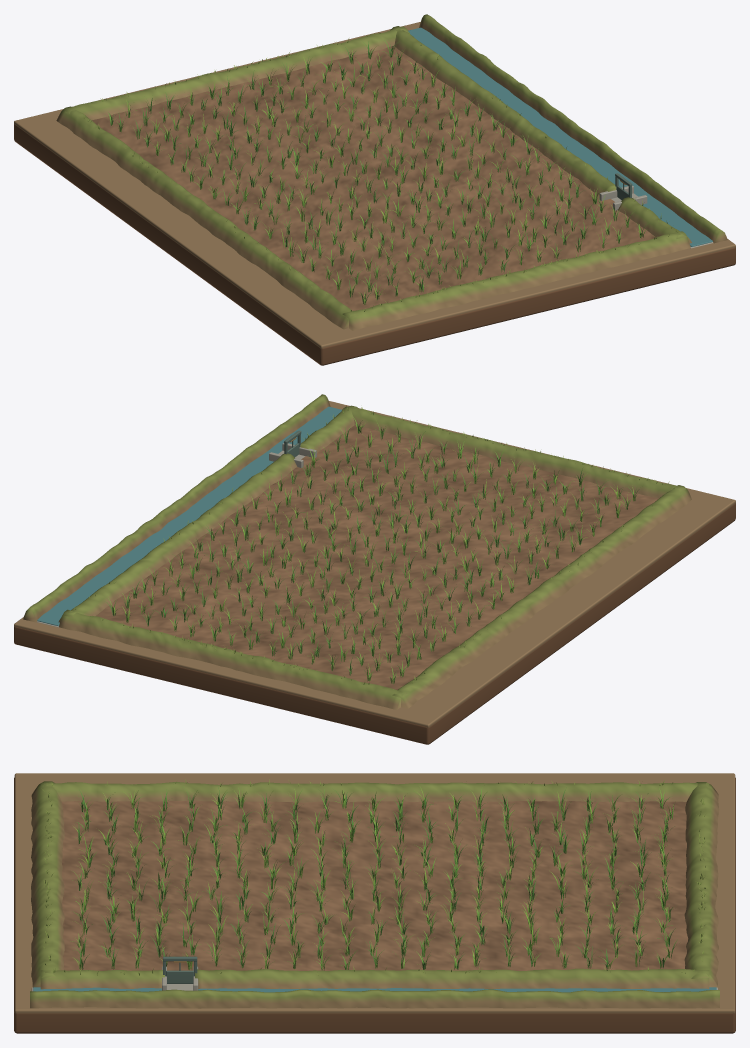
The model's file is lahan-terbuka-padi.glb.
3 renders of one model, top to bottom at view 1: azimuth 30°, elevation 25°; view 2: azimuth 150°, elevation 25°; view 3: azimuth 270°, elevation 25°, orthographic. The views are drawn at different scales.
Visible parts, largest first — view 1: Permukaan_Tanah, Lapisan_Tanah_Atas, Lapisan_Tanah_Dasar, Pematang_Barat, Pematang_Selatan, Pematang_Utara, Tanggul_Saluran, Pematang_Timur_Utara, Air_Saluran, Pematang_Timur_Selatan, Padi_Baris_06, Padi_Baris_08 (+21 smaller); view 2: Permukaan_Tanah, Lapisan_Tanah_Atas, Lapisan_Tanah_Dasar, Pematang_Barat, Pematang_Utara, Pematang_Selatan, Tanggul_Saluran, Pematang_Timur_Utara, Air_Saluran, Pematang_Timur_Selatan, Padi_Baris_09, Padi_Baris_06 (+21 smaller); view 3: Permukaan_Tanah, Lapisan_Tanah_Atas, Lapisan_Tanah_Dasar, Tanggul_Saluran, Pematang_Barat, Pematang_Timur_Utara, Pematang_Selatan, Pematang_Utara, Pematang_Timur_Selatan, Air_Saluran, Padi_Baris_09, Padi_Baris_01 (+22 smaller).
Boxes of the visible parts, x1=… form: Permukaan_Tanah: x1=92, y1=46, x2=656, y2=310; Lapisan_Tanah_Atas: x1=14, y1=22, x2=735, y2=348; Lapisan_Tanah_Dasar: x1=14, y1=124, x2=735, y2=365; Pematang_Barat: x1=56, y1=106, x2=358, y2=329; Pematang_Selatan: x1=342, y1=231, x2=690, y2=330; Pematang_Utara: x1=64, y1=26, x2=408, y2=120; Tanggul_Saluran: x1=419, y1=14, x2=727, y2=243; Pematang_Timur_Utara: x1=390, y1=26, x2=616, y2=194; Air_Saluran: x1=408, y1=27, x2=712, y2=246; Pematang_Timur_Selatan: x1=618, y1=197, x2=691, y2=243; Padi_Baris_06: x1=293, y1=180, x2=582, y2=262; Padi_Baris_08: x1=281, y1=164, x2=564, y2=247; Permukaan_Tanah: x1=95, y1=425, x2=658, y2=689; Lapisan_Tanah_Atas: x1=14, y1=401, x2=735, y2=727; Lapisan_Tanah_Dasar: x1=14, y1=503, x2=735, y2=744; Pematang_Barat: x1=392, y1=485, x2=691, y2=708; Pematang_Utara: x1=59, y1=609, x2=406, y2=709; Pematang_Selatan: x1=341, y1=406, x2=689, y2=498; Tanggul_Saluran: x1=23, y1=394, x2=330, y2=622; Pematang_Timur_Utara: x1=58, y1=453, x2=297, y2=622; Air_Saluran: x1=37, y1=406, x2=341, y2=626; Pematang_Timur_Selatan: x1=300, y1=405, x2=358, y2=452; Padi_Baris_09: x1=261, y1=483, x2=550, y2=569; Padi_Baris_06: x1=302, y1=459, x2=587, y2=545; Permukaan_Tanah: x1=61, y1=800, x2=688, y2=970; Lapisan_Tanah_Atas: x1=14, y1=773, x2=735, y2=1013; Lapisan_Tanah_Dasar: x1=14, y1=777, x2=735, y2=1033; Tanggul_Saluran: x1=30, y1=989, x2=719, y2=1008; Pematang_Barat: x1=40, y1=782, x2=709, y2=802; Pematang_Timur_Utara: x1=195, y1=968, x2=709, y2=988; Pematang_Selatan: x1=31, y1=781, x2=64, y2=987; Pematang_Utara: x1=684, y1=782, x2=719, y2=987; Pematang_Timur_Selatan: x1=40, y1=970, x2=164, y2=989; Air_Saluran: x1=33, y1=987, x2=716, y2=992; Padi_Baris_09: x1=282, y1=789, x2=308, y2=968; Padi_Baris_01: x1=70, y1=790, x2=96, y2=969.
Bounding box in the file's own units: 15.8 × 1.65 × 20.3.
